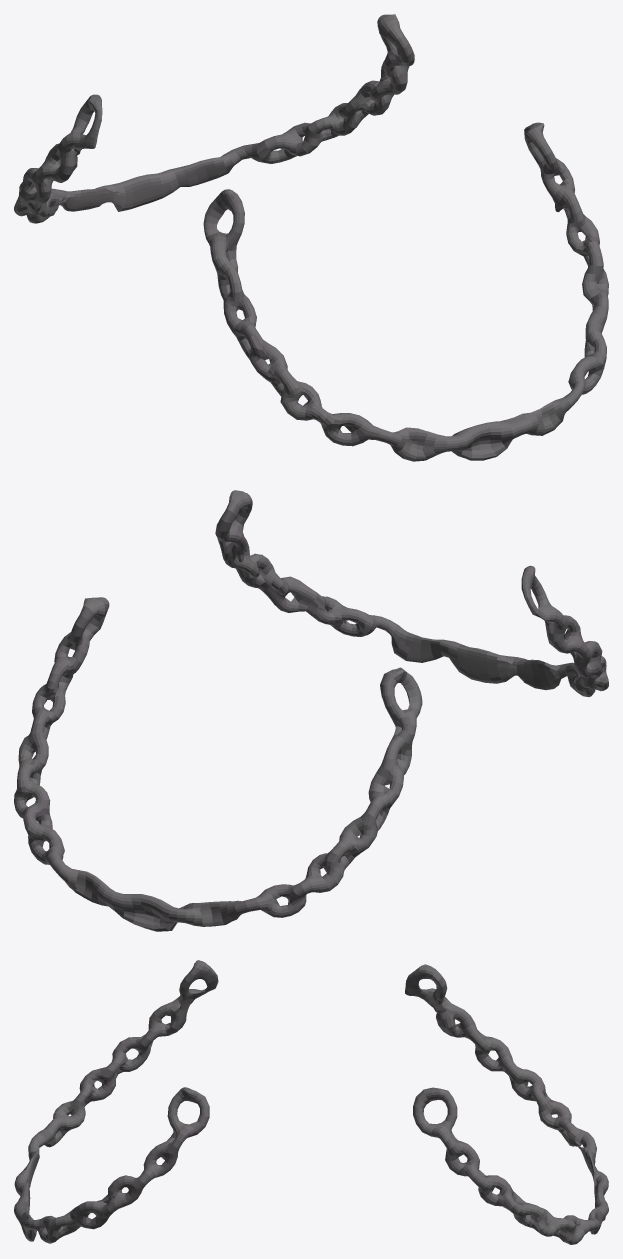
File: Chain.glb
The picture shows the model from 3 angles, top to bottom: view 1: azimuth 30°, elevation 25°; view 2: azimuth 150°, elevation 25°; view 3: azimuth 270°, elevation 25°; orthographic projection. The views are drawn at different scales.
Visible parts, largest first — view 1: Сhain; view 2: Сhain; view 3: Сhain.
Part boxes in pixels (bbox=[...]): Сhain: bbox=[14, 14, 608, 461]; Сhain: bbox=[14, 490, 608, 931]; Сhain: bbox=[14, 960, 608, 1244].
Size of the model in its own units: 0.0426 by 0.0254 by 0.0704.
Materials: 1 (1 with a texture image).
